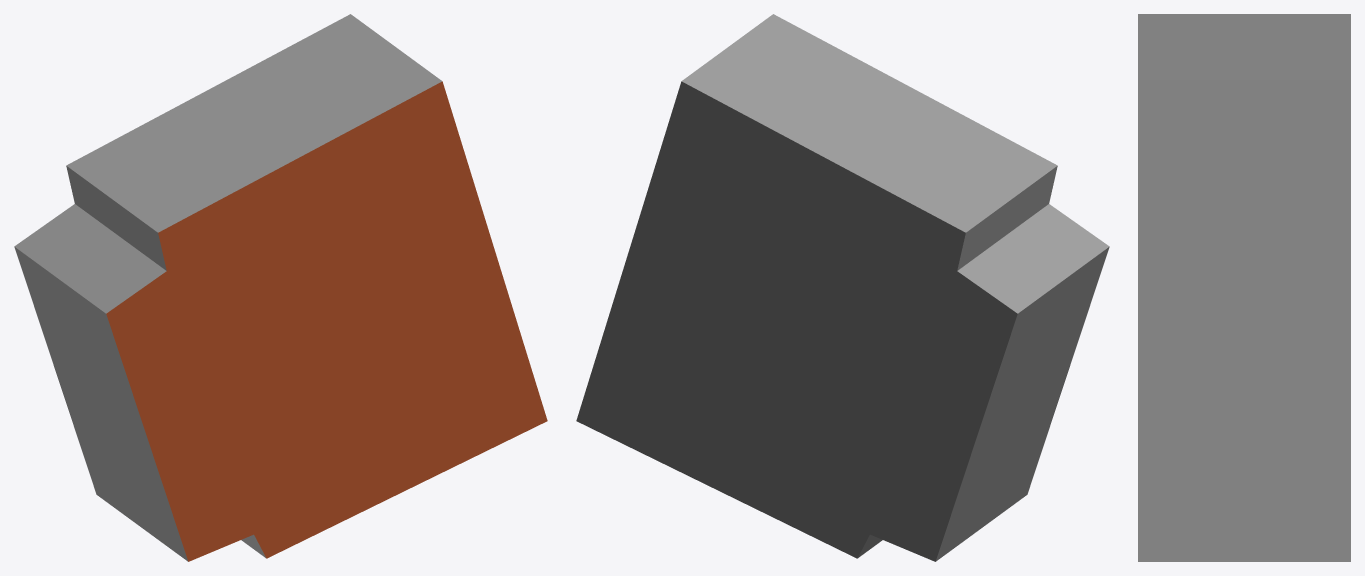
Rendered from construction_1181_assumed_A_Casa_h6m.obj.
The picture shows the model from 3 angles, left to right: view 1: azimuth 30°, elevation 25°; view 2: azimuth 150°, elevation 25°; view 3: azimuth 270°, elevation 25°; orthographic projection. The views are drawn at different scales.
Visible parts, largest first — view 1: construction_1181_assumed_A_Casa; view 2: construction_1181_assumed_A_Casa; view 3: construction_1181_assumed_A_Casa.
Boxes of the visible parts, x1,y1,x2,y2 form: construction_1181_assumed_A_Casa: (14, 14, 547, 561); construction_1181_assumed_A_Casa: (576, 14, 1109, 561); construction_1181_assumed_A_Casa: (1138, 14, 1350, 561).
Size of the model in its own units: 16.64 by 15.65 by 6.
